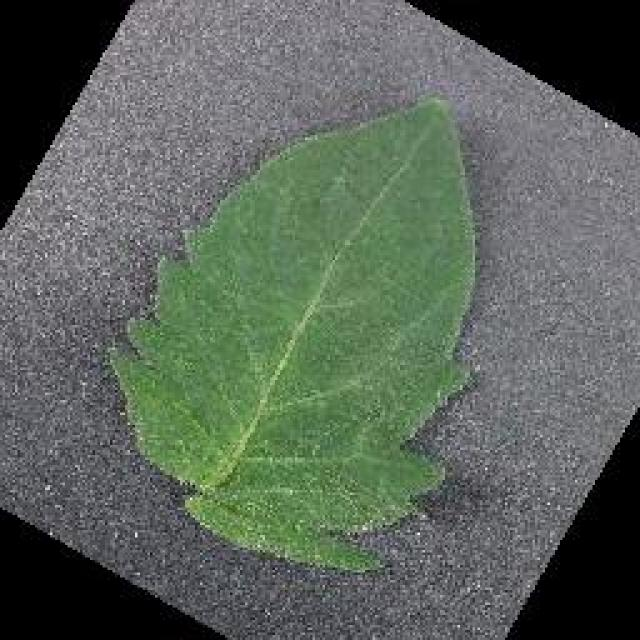Tomato___healthy: (106, 100, 478, 572)
